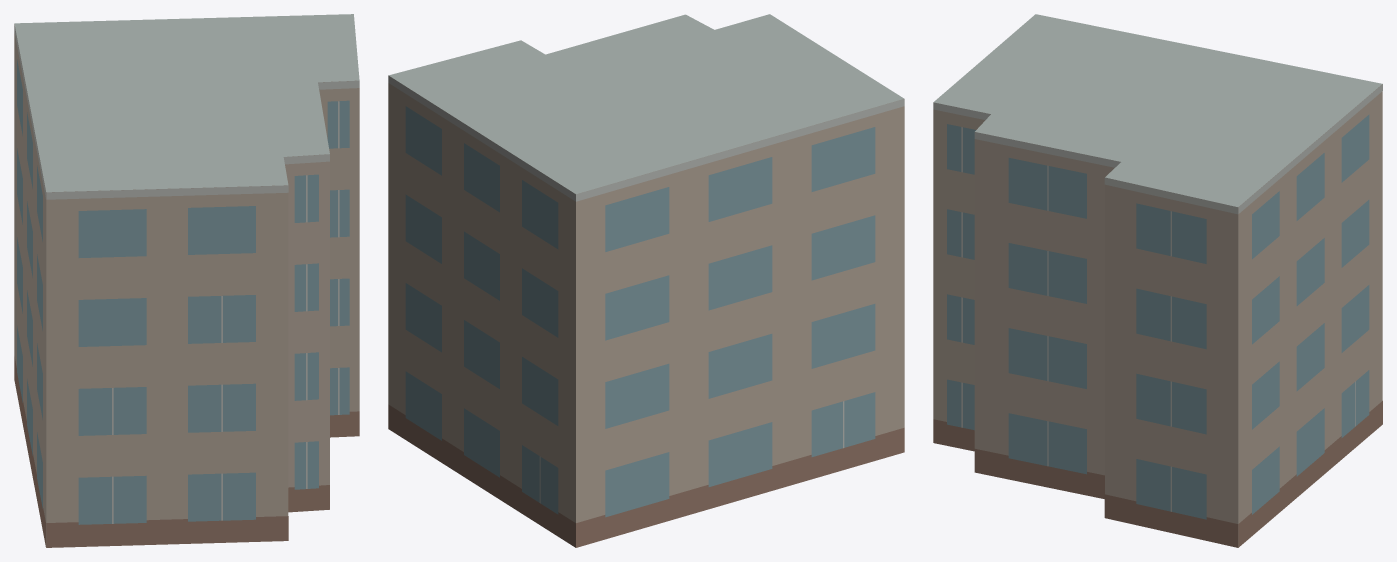
File: survey-upis-32703022.glb
3 renders of one model, left to right at view 1: azimuth 30°, elevation 25°; view 2: azimuth 150°, elevation 25°; view 3: azimuth 270°, elevation 25°, orthographic. The views are drawn at different scales.
Parts seen in each view (by area): view 1: survey-upis-32703022.tmp; view 2: survey-upis-32703022.tmp; view 3: survey-upis-32703022.tmp.
Part boxes in pixels (box(x1,y1,x2,y2)): survey-upis-32703022.tmp: box(14, 14, 359, 547); survey-upis-32703022.tmp: box(388, 14, 904, 547); survey-upis-32703022.tmp: box(933, 14, 1382, 547).
Size of the model in its own units: 14.12 by 11.6 by 13.88.
